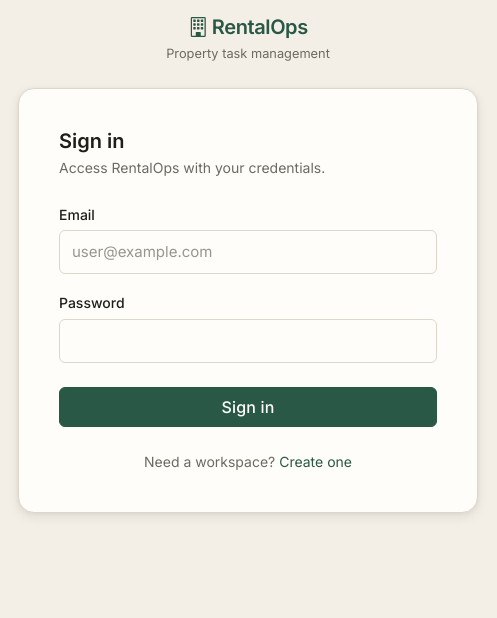
Test case: LoginPage › shows 401 invalid credentials feedback
Type "admin@test.local" into the field labelled "Email" at point(248, 252), box top-left (59, 230), bottom-right (437, 274)
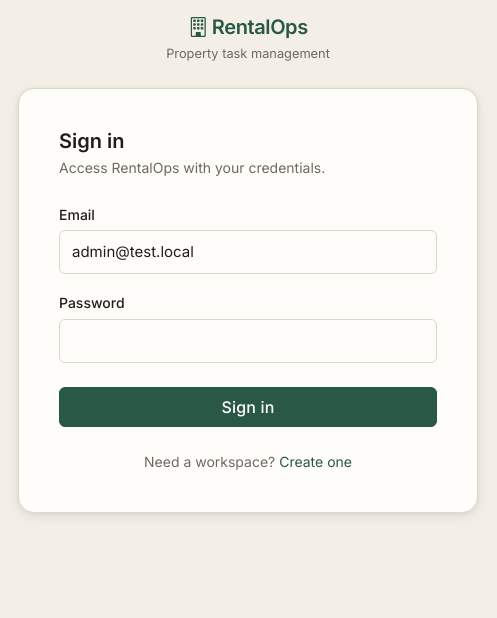
Type "wrong-password" into the password field labelled "Password" at point(248, 341), box top-left (59, 319), bottom-right (437, 363)
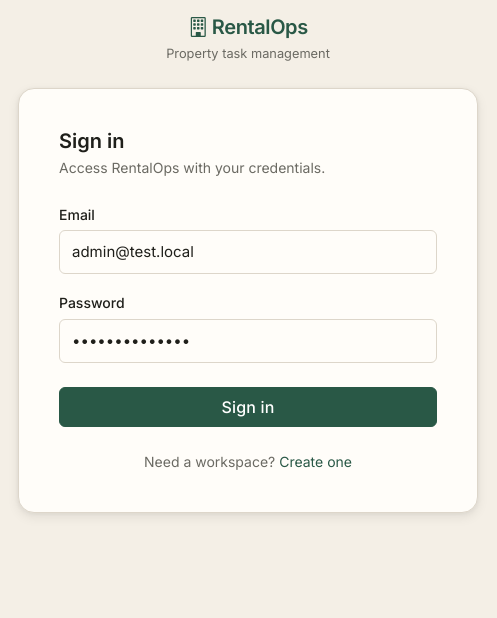
Click the button "Sign in" at point(248, 407), box top-left (59, 387), bottom-right (437, 427)
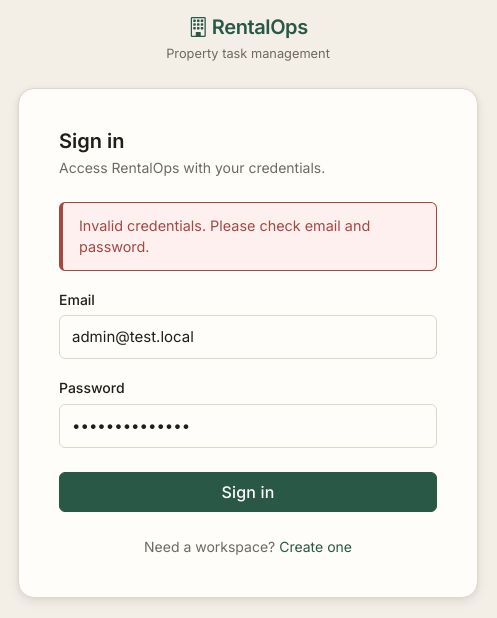
Expected: the text "Invalid credentials. Please check email and password." is shown, top-left (59, 202), bottom-right (437, 271)
